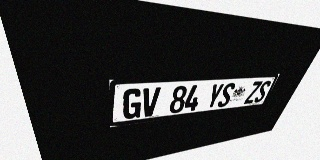4: (183, 84, 203, 112)
8: (168, 85, 189, 114)
G: (122, 88, 143, 120)
S: (216, 83, 236, 108), (253, 80, 272, 103)
V: (140, 87, 161, 117)
Y: (205, 83, 225, 109)
Z: (243, 81, 263, 104)
